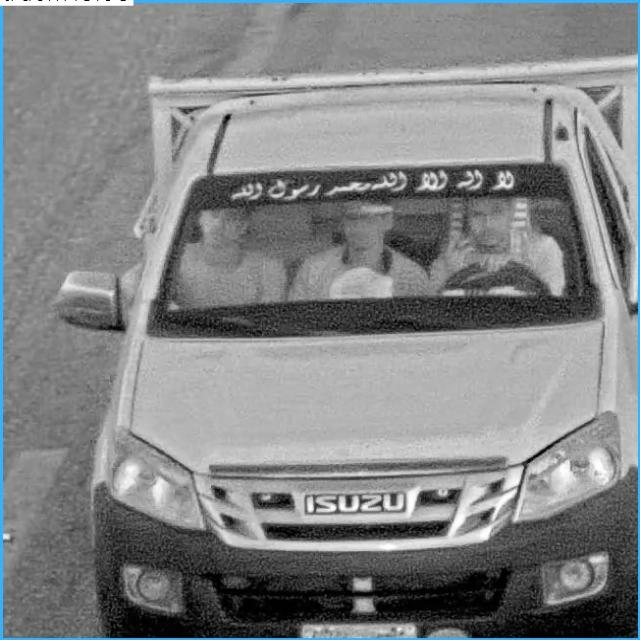windshield: (163, 149, 602, 331)
